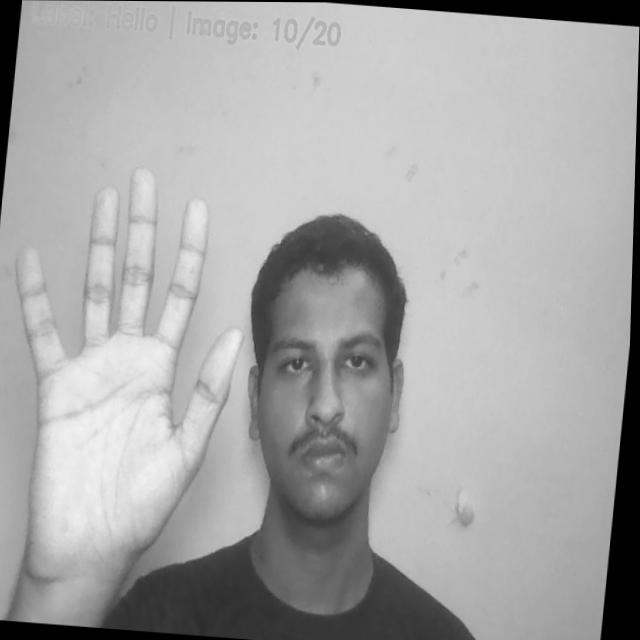Hello: (0, 142, 268, 558)
